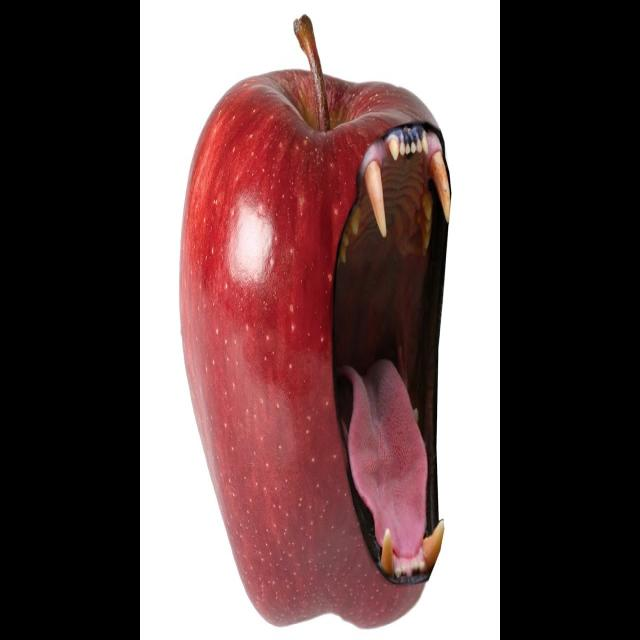apple: (178, 67, 448, 628)
